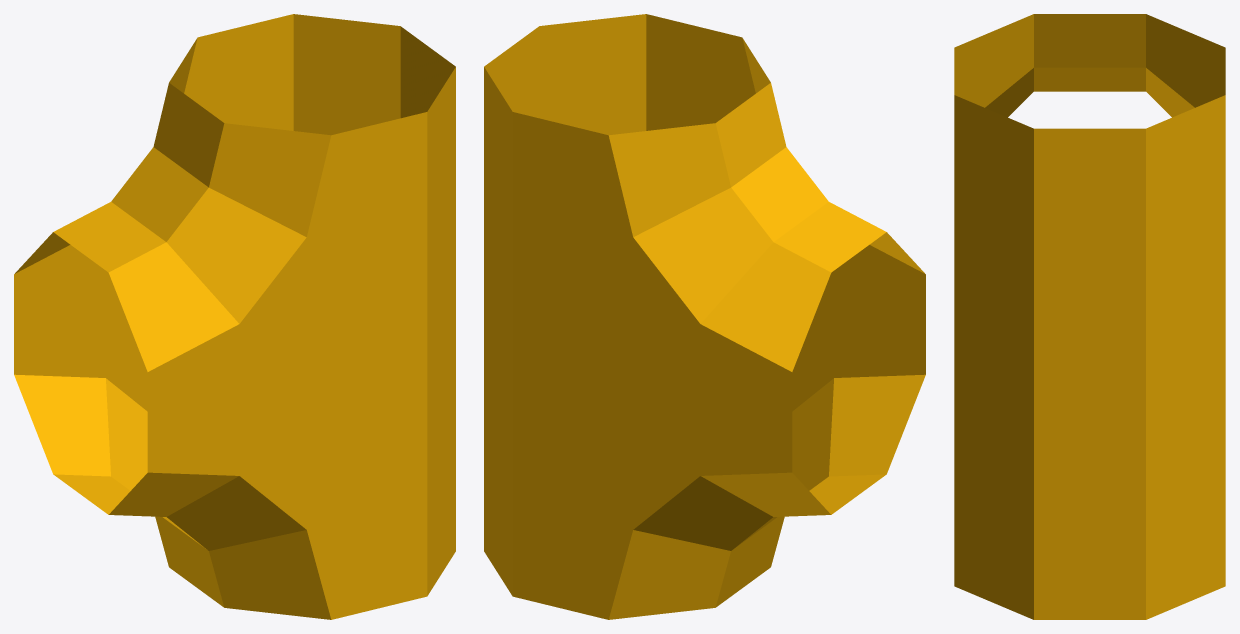
Rendered from fpe_pipe_t_smooth.dae.
3 views of the same model, side by side, from view 1: azimuth 30°, elevation 25°; view 2: azimuth 150°, elevation 25°; view 3: azimuth 270°, elevation 25° (orthographic).
Visible parts, largest first — view 1: pipe_t_smooth; view 2: pipe_t_smooth; view 3: pipe_t_smooth.
Part boxes in pixels (x1,y1,x2,y2): pipe_t_smooth: (14,14,455,619); pipe_t_smooth: (484,14,925,619); pipe_t_smooth: (954,14,1225,619).
Bounding box in the file's own units: 0.1875 × 0.125 × 0.25.
